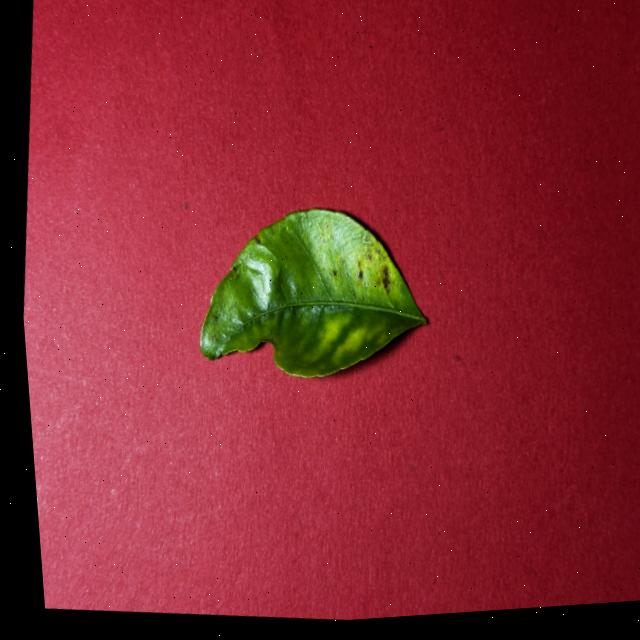greening: (199, 208, 424, 377)
